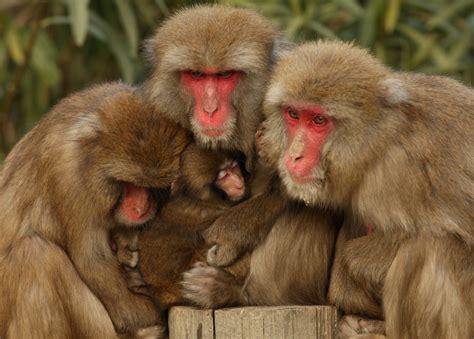monkey: (267, 43, 473, 336), (151, 6, 331, 303), (1, 87, 184, 339), (139, 142, 248, 302)
